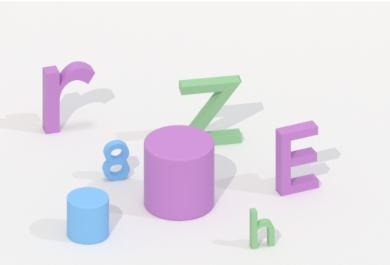0-KhoiTru: (139, 123, 222, 224), (62, 184, 113, 249)
8: (100, 137, 132, 184)
E: (270, 116, 323, 198)
Z: (174, 68, 250, 149)
h: (245, 204, 277, 252)
r: (37, 56, 98, 138)
